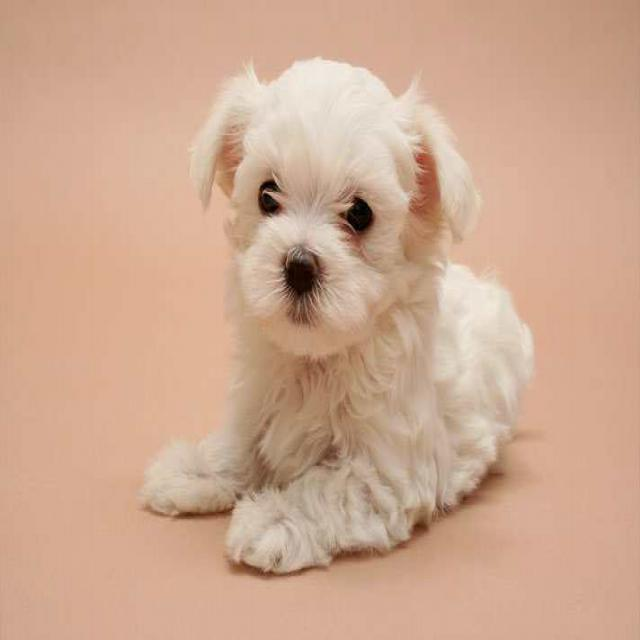eye: (341, 192, 375, 237), (256, 176, 286, 219)
